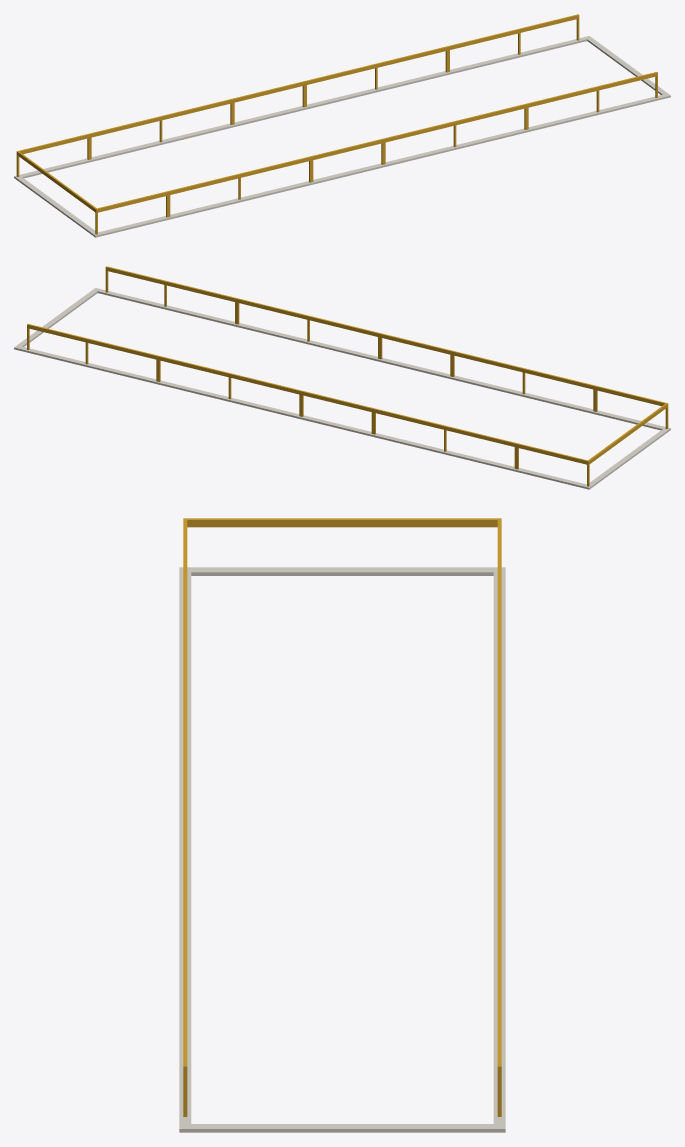
File: tour_bus_open_top_deck_rail.glb
The picture shows the model from 3 angles, top to bottom: view 1: azimuth 30°, elevation 25°; view 2: azimuth 150°, elevation 25°; view 3: azimuth 270°, elevation 25°; orthographic projection. The views are drawn at different scales.
Parts seen in each view (by area): view 1: body:compound; view 2: body:compound; view 3: body:compound.
Part boxes in pixels (bbox=[...]): body:compound: bbox=[14, 14, 670, 237]; body:compound: bbox=[14, 266, 670, 489]; body:compound: bbox=[179, 518, 505, 1132].
Bounding box in the file's own units: 10.44 × 0.4688 × 2.56.
